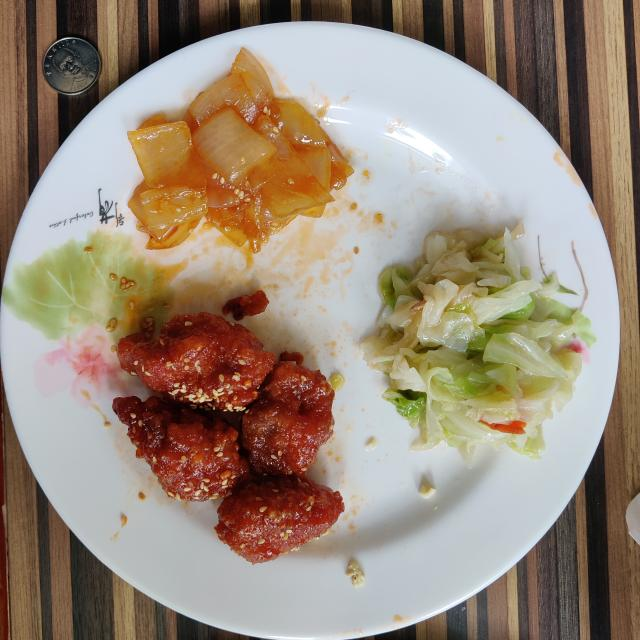cabbage: (360, 225, 596, 460)
coin: (42, 38, 101, 95)
